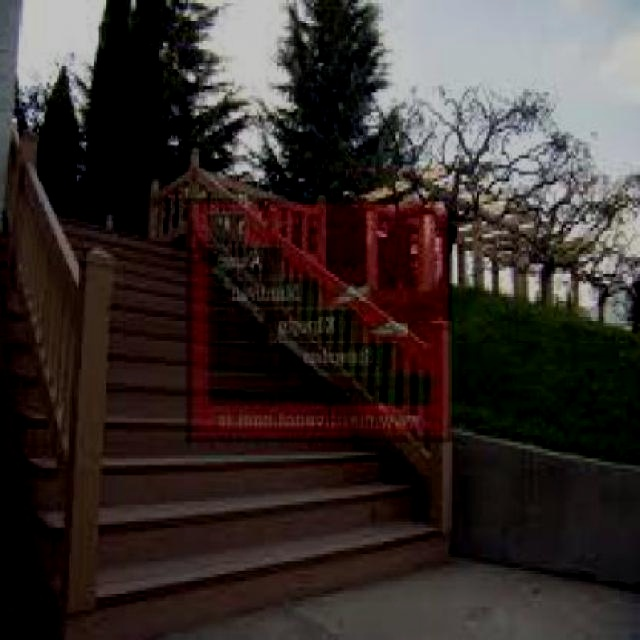stair: (15, 155, 459, 624)
